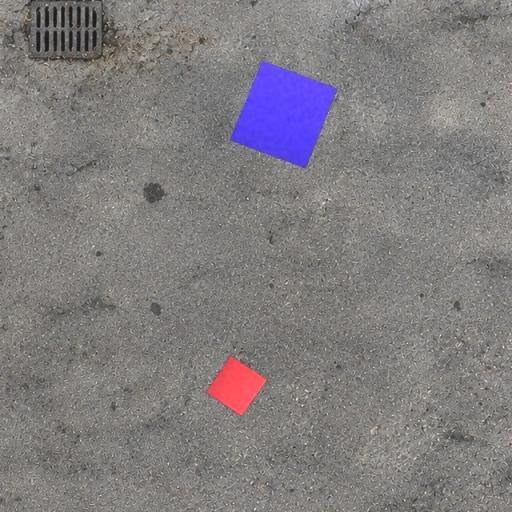BLUE_SQUARE: (230, 60, 338, 169)
RED_SQUARE: (205, 354, 268, 418)
